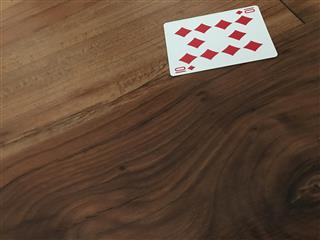TenOfDiamonds: (162, 3, 278, 77)
